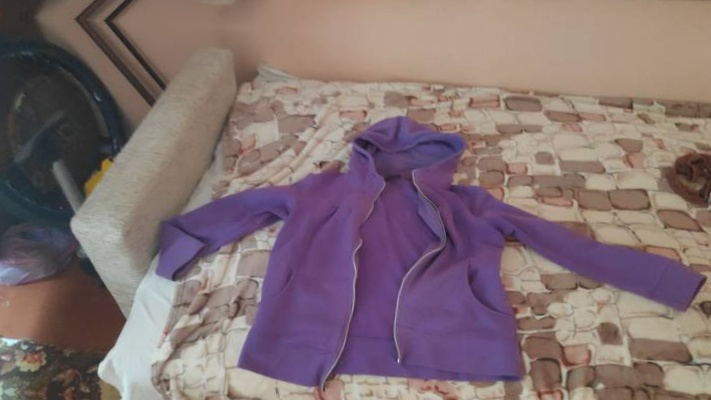Hoodie: (144, 91, 711, 400), (706, 119, 711, 400)
